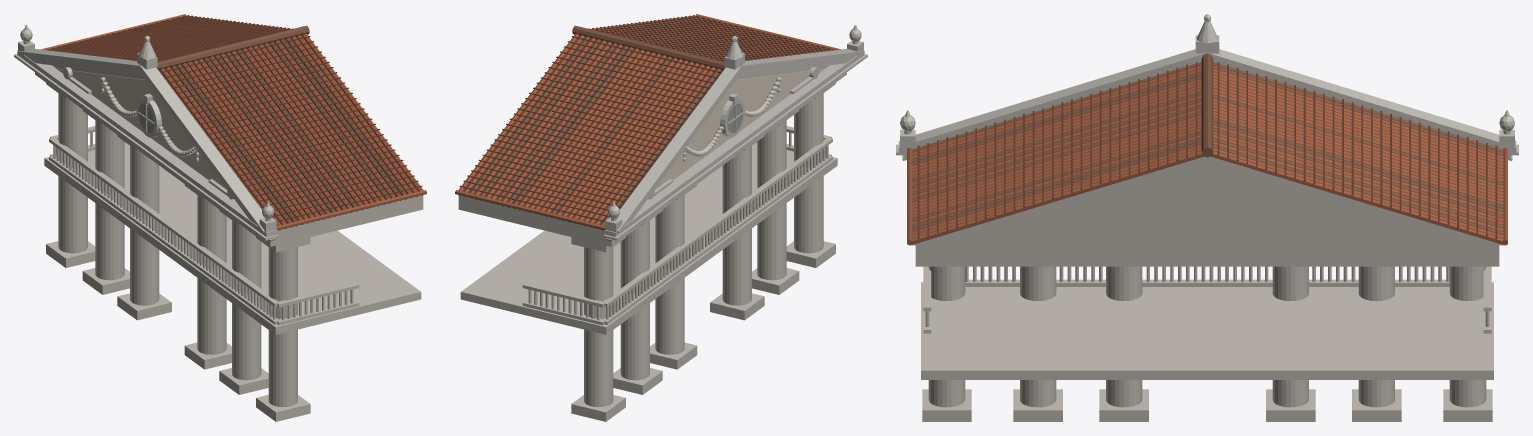
The model's file is SM_Malikane_Sutunlar_Balkon.fbx.
3 views of the same model, side by side, from view 1: azimuth 30°, elevation 25°; view 2: azimuth 150°, elevation 25°; view 3: azimuth 270°, elevation 25° (orthographic). The views are drawn at different scales.
Parts seen in each view (by area): view 1: Malikane_Sutunlar_Balkon; view 2: Malikane_Sutunlar_Balkon; view 3: Malikane_Sutunlar_Balkon.
Part boxes in pixels (bbox=[...]): Malikane_Sutunlar_Balkon: bbox=[14, 14, 426, 421]; Malikane_Sutunlar_Balkon: bbox=[455, 14, 867, 421]; Malikane_Sutunlar_Balkon: bbox=[896, 14, 1518, 421].
Size of the model in its own units: 922 by 1604 by 2390.
